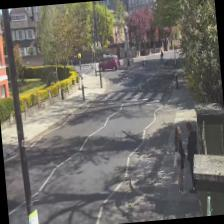person: (183, 121, 201, 194)
